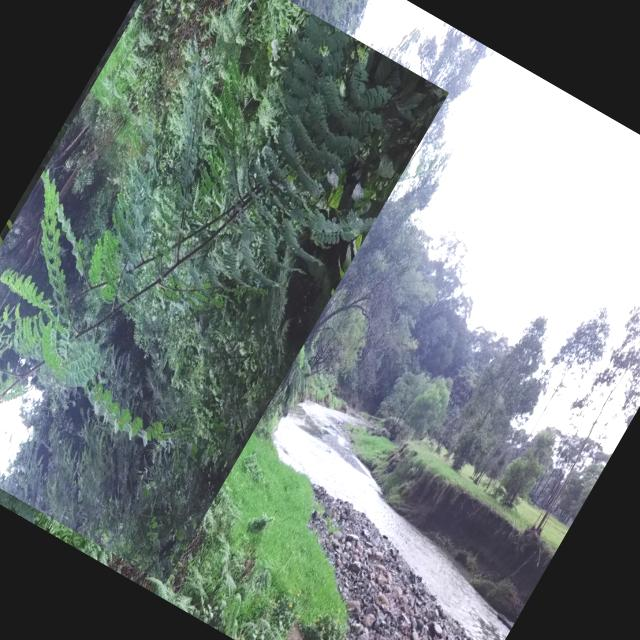Mysore-Thorn-Weed: (0, 0, 449, 584)
